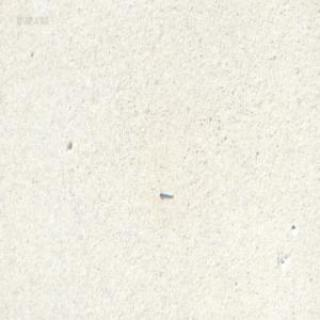Nailtrack_idkeyframe: (158, 188, 172, 198)
